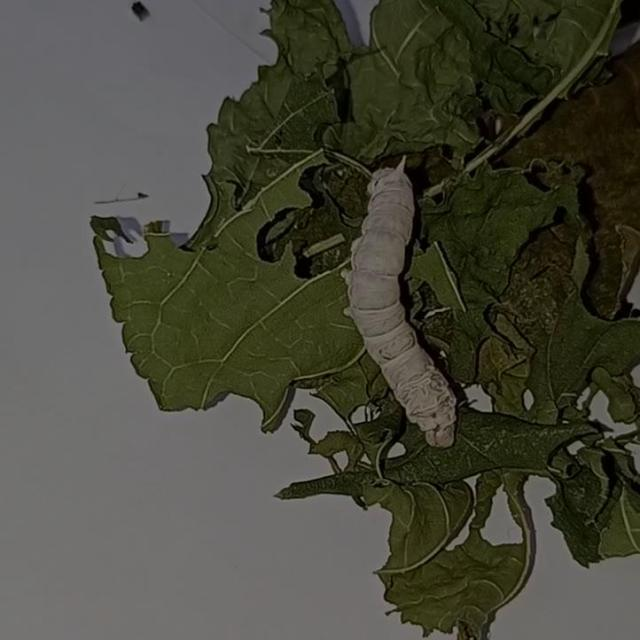Healthy: (328, 139, 482, 462)
